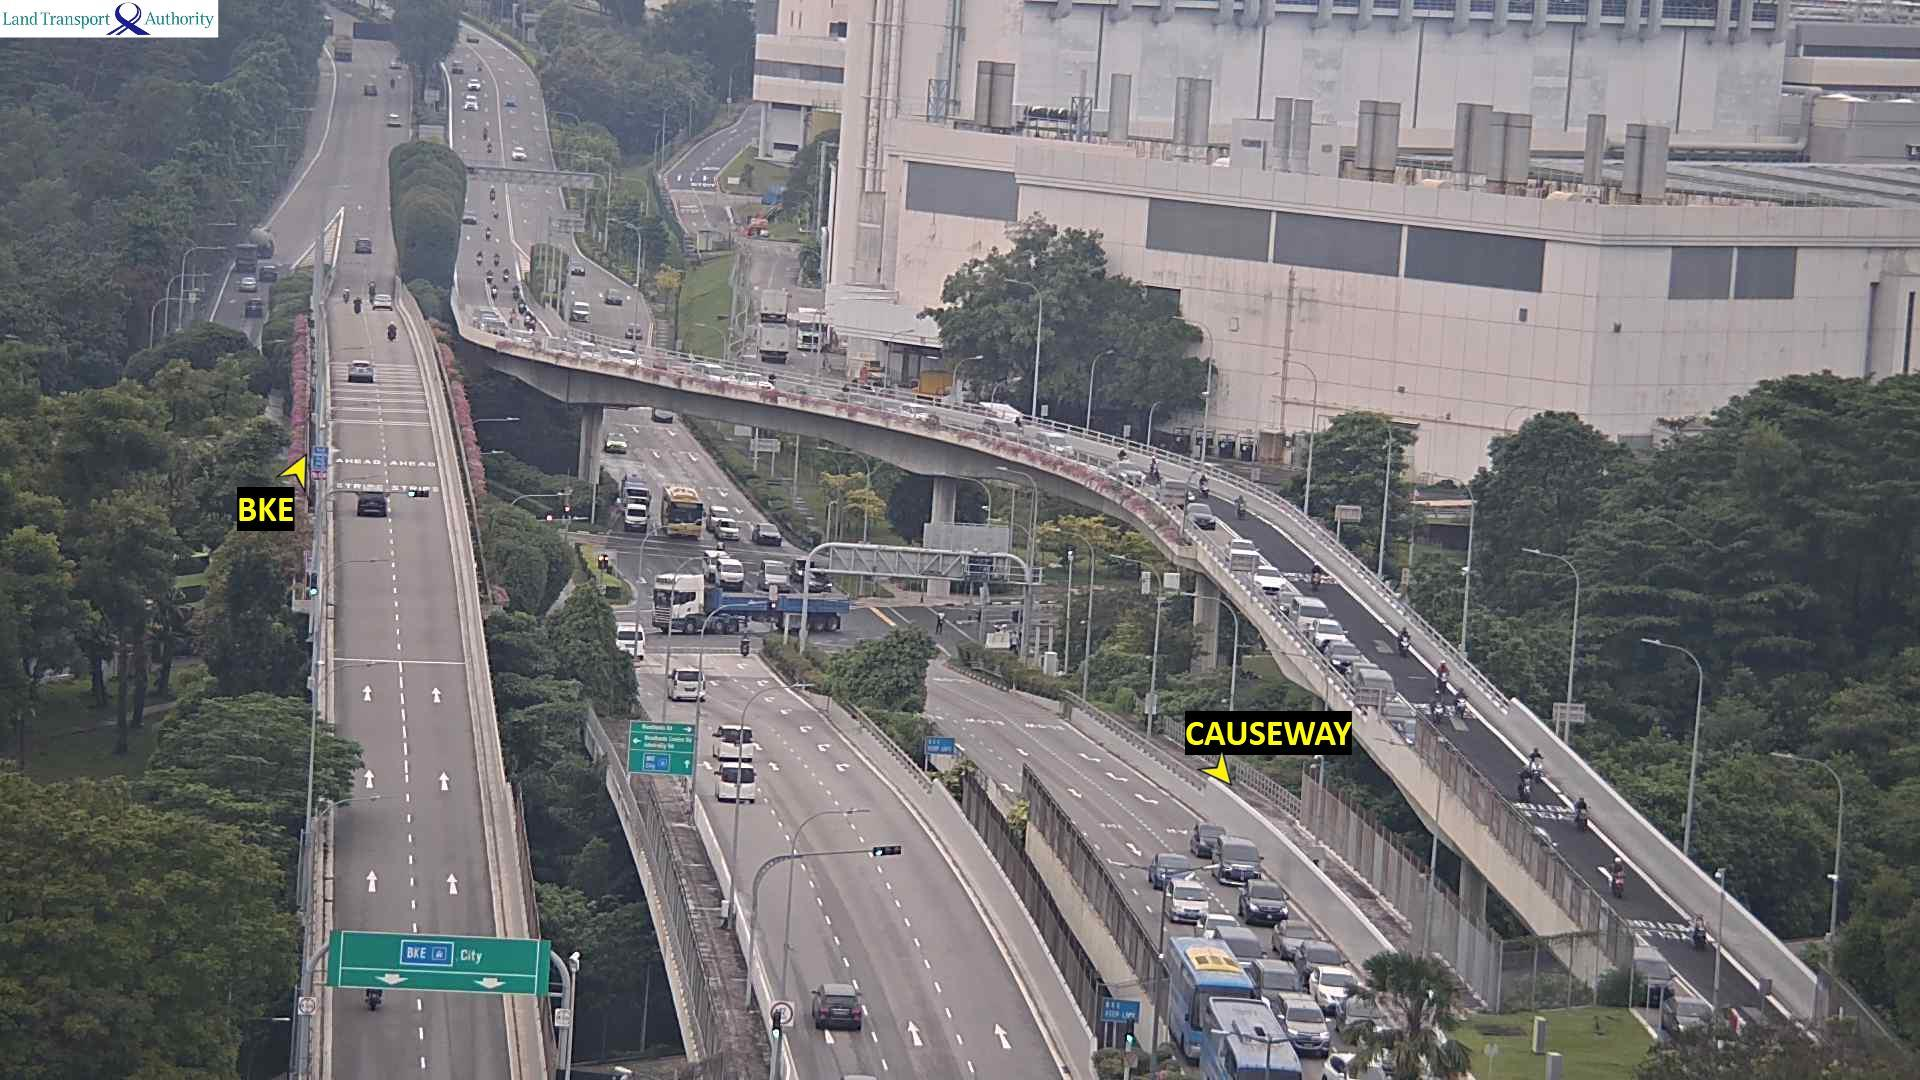vehicle-causeway-johor: (1162, 939, 1260, 1036), (1208, 1001, 1299, 1080), (1232, 880, 1299, 925), (1205, 838, 1265, 882), (1633, 946, 1673, 1004), (1151, 858, 1208, 892), (663, 486, 700, 535), (1287, 944, 1343, 975), (1274, 930, 1328, 961), (1274, 998, 1329, 1028), (1349, 665, 1389, 706), (1254, 963, 1305, 994), (1276, 596, 1327, 627), (1309, 973, 1361, 1003), (1219, 934, 1275, 961), (1222, 539, 1270, 570), (1324, 644, 1374, 672), (1165, 895, 1213, 924), (1665, 1000, 1707, 1030), (1325, 1054, 1371, 1080), (1252, 574, 1289, 606), (1034, 431, 1075, 458), (1191, 823, 1224, 851), (1311, 627, 1345, 652), (761, 560, 787, 592), (983, 418, 1017, 442), (1110, 461, 1142, 485), (728, 371, 770, 389), (693, 363, 729, 383), (1184, 512, 1214, 534), (898, 404, 931, 421), (1383, 703, 1411, 723), (710, 506, 731, 528), (1577, 792, 1589, 829), (1455, 686, 1470, 715), (808, 571, 829, 591), (1433, 692, 1446, 724), (756, 524, 779, 542), (1611, 855, 1622, 891), (1697, 912, 1706, 954), (717, 522, 739, 538), (1529, 747, 1541, 776), (1437, 660, 1449, 689), (789, 560, 808, 578), (1521, 766, 1531, 800), (475, 309, 500, 321), (616, 350, 639, 363), (1236, 495, 1248, 517), (465, 95, 480, 110), (1312, 564, 1320, 592), (1150, 456, 1159, 480), (1399, 627, 1408, 649), (464, 208, 477, 223), (485, 322, 506, 329), (511, 286, 520, 297), (490, 187, 495, 203), (519, 300, 526, 311), (1120, 447, 1126, 459), (504, 269, 510, 281), (487, 271, 493, 283), (482, 128, 488, 140), (485, 227, 490, 239), (476, 250, 480, 264), (526, 312, 533, 320), (487, 143, 492, 152), (495, 254, 499, 264), (492, 287, 495, 299)
vehicle-causeway-singapore: (817, 986, 862, 1031), (712, 754, 759, 785), (659, 678, 707, 702), (619, 620, 644, 660), (711, 726, 761, 744), (355, 492, 386, 517), (346, 360, 374, 381), (663, 690, 705, 704), (361, 992, 375, 1013), (372, 296, 391, 310), (356, 239, 371, 252), (741, 638, 749, 659), (391, 322, 400, 338), (354, 296, 360, 313), (343, 289, 349, 303), (369, 280, 375, 291)
